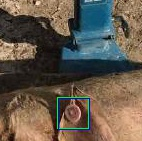text: (57, 97, 88, 128)
